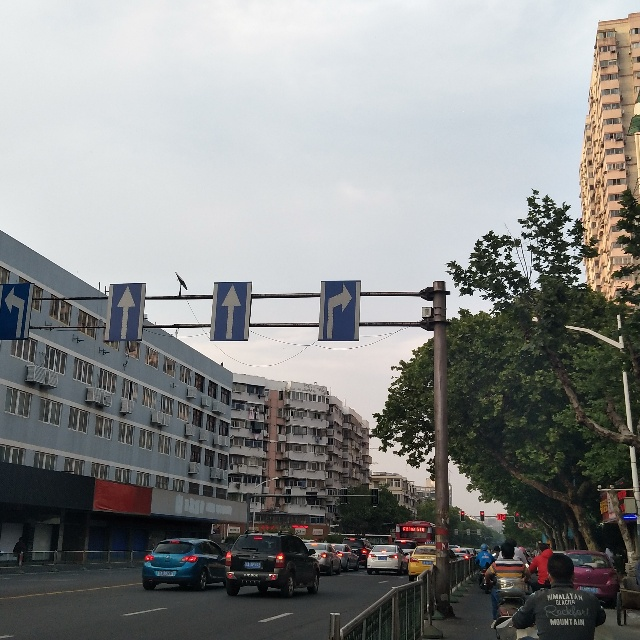left: (1, 283, 33, 341)
right: (318, 280, 360, 342)
straight: (104, 283, 145, 342), (212, 283, 251, 341)
